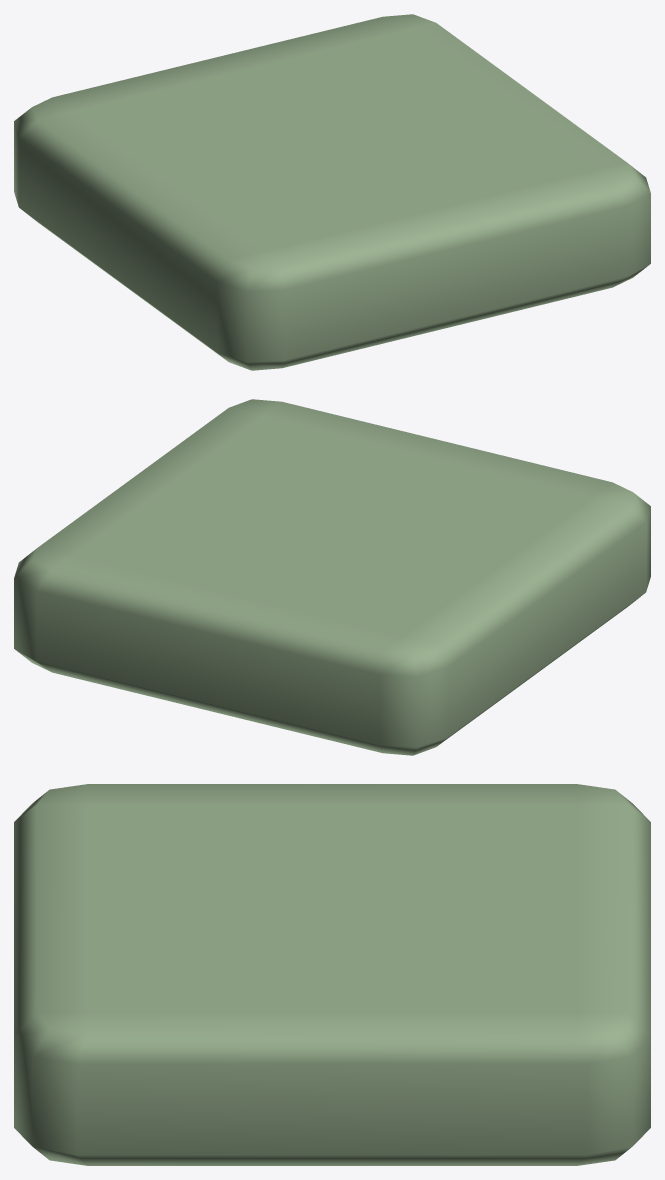
Rendered from Tile.fbx.
The picture shows the model from 3 angles, top to bottom: view 1: azimuth 30°, elevation 25°; view 2: azimuth 150°, elevation 25°; view 3: azimuth 270°, elevation 25°; orthographic projection. The views are drawn at different scales.
Parts seen in each view (by area): view 1: Tiles; view 2: Tiles; view 3: Tiles.
Part boxes in pixels (bbox=[...]): Tiles: bbox=[14, 14, 650, 370]; Tiles: bbox=[14, 399, 650, 755]; Tiles: bbox=[14, 784, 650, 1165].
Size of the model in its own units: 1 by 0.2283 by 1.
